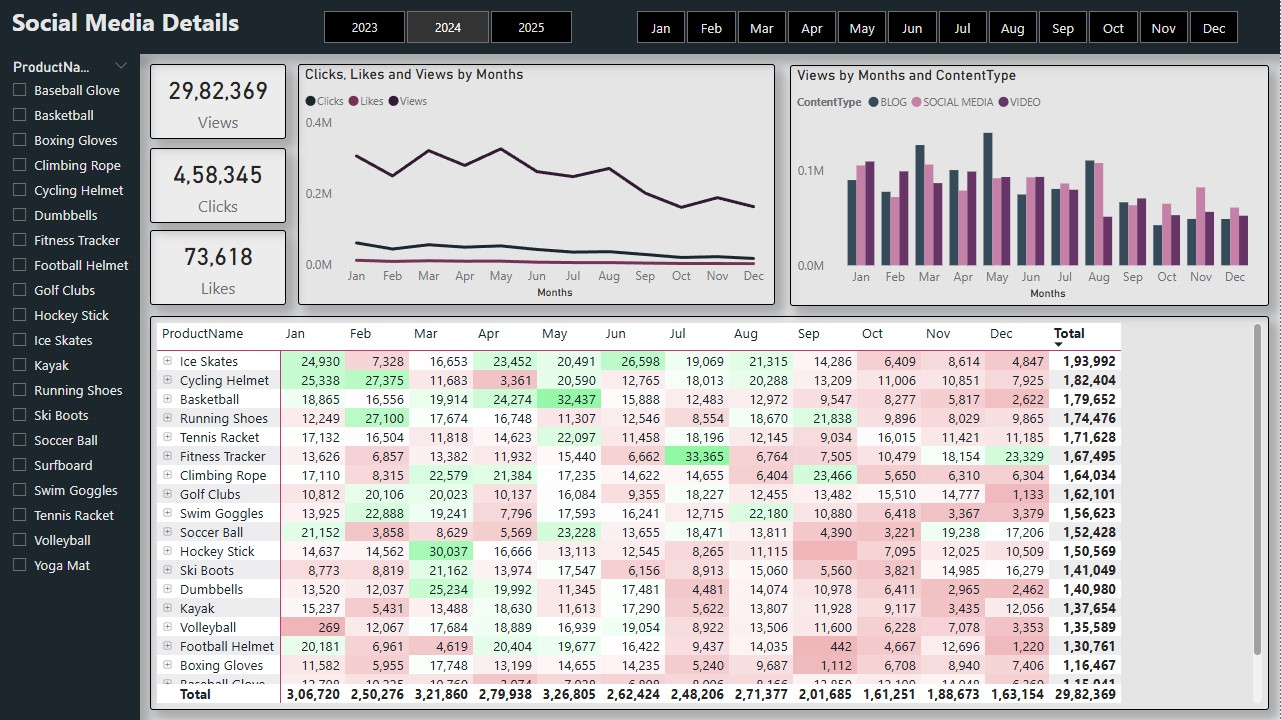

What the dashboard file says about the page in this screenshot:
{"tool":"powerbi","page":{"name":"Social Media Details","canvas":[1280,720],"ordinal":2},"visuals":[{"type":"textbox","box":[0,0,1280,54.5],"z":0},{"type":"slicer","fields":{"Values":["dim_products.ProductName"]},"box":[0,54,140,666],"z":1000},{"type":"card","fields":{"Values":["_Calculations.Views"]},"box":[150,64,136,75],"z":2000},{"type":"card","fields":{"Values":["_Calculations.Clicks"]},"box":[150,148,136,75],"z":3000},{"type":"card","fields":{"Values":["_Calculations.Likes"]},"box":[150,230,136,75],"z":4000},{"type":"slicer","fields":{"Values":["Calendar.Year"]},"box":[298,4,298,46],"z":5000},{"type":"slicer","fields":{"Values":["Calendar.MonthNameShort"]},"box":[611,4,651,46],"z":6000},{"type":"lineChart","fields":{"Category":["Calendar.MonthNameShort"],"Y":["_Calculations.Clicks","_Calculations.Likes","_Calculations.Views"]},"box":[298,64,477,241],"z":7000},{"type":"clusteredColumnChart","fields":{"Category":["Calendar.MonthNameShort"],"Y":["_Calculations.Views"],"Series":["fact_engagement_data.ContentType"]},"box":[790,65,479,241],"z":8000},{"type":"pivotTable","fields":{"Rows":["dim_products.ProductName","fact_engagement_data.ContentType"],"Columns":["Calendar.MonthNameShort"],"Values":["_Calculations.Views"]},"box":[150,316,1119,394],"z":9000}]}

Visuals, with their boxes in screenshot pixels (x1, y1, x2, y2), scaled from the page's 1280x720 canvas onto the 1281x720 screenshot:
textbox: 0, 0, 1280, 54
slicer - dim_products.ProductName: 0, 54, 140, 719
card - _Calculations.Views: 150, 64, 286, 139
card - _Calculations.Clicks: 150, 148, 286, 223
card - _Calculations.Likes: 150, 230, 286, 305
slicer - Calendar.Year: 298, 4, 596, 50
slicer - Calendar.MonthNameShort: 611, 4, 1263, 50
lineChart - Calendar.MonthNameShort x _Calculations.Clicks: 298, 64, 776, 305
clusteredColumnChart - Calendar.MonthNameShort x _Calculations.Views: 791, 65, 1270, 306
pivotTable - dim_products.ProductName x fact_engagement_data.ContentType: 150, 316, 1270, 710
